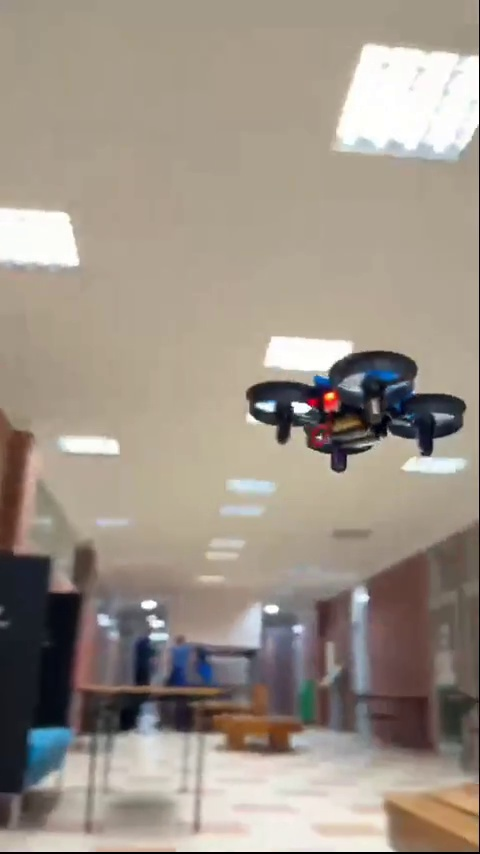drone: (247, 349, 470, 472)
no vest: (126, 634, 160, 692), (164, 634, 193, 684)
